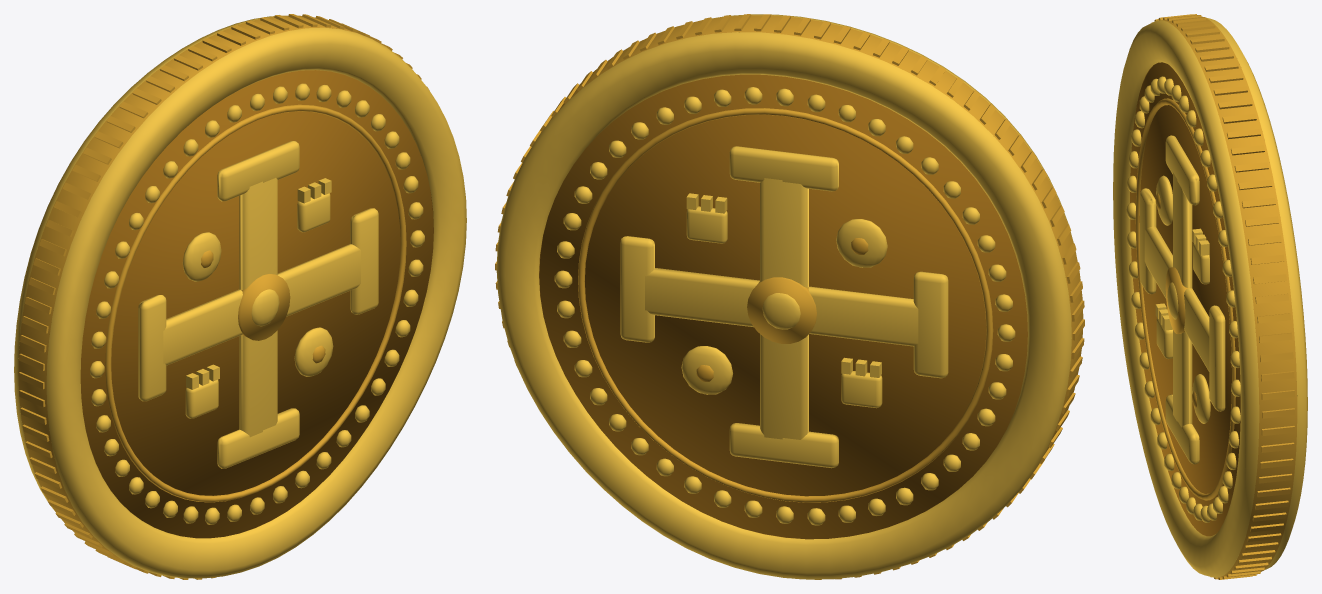
Rendered from gold_coin.glb.
3 renders of one model, left to right at view 1: azimuth 30°, elevation 25°; view 2: azimuth 150°, elevation 25°; view 3: azimuth 270°, elevation 25°, orthographic. The views are drawn at different scales.
Visible parts, largest first — view 1: gold_coin; view 2: gold_coin; view 3: gold_coin.
Boxes of the visible parts, x1,y1,x2,y2 form: gold_coin: (14, 14, 466, 579); gold_coin: (495, 14, 1084, 579); gold_coin: (1113, 14, 1307, 579).
Size of the model in its own units: 0.9847 by 1 by 0.345.
